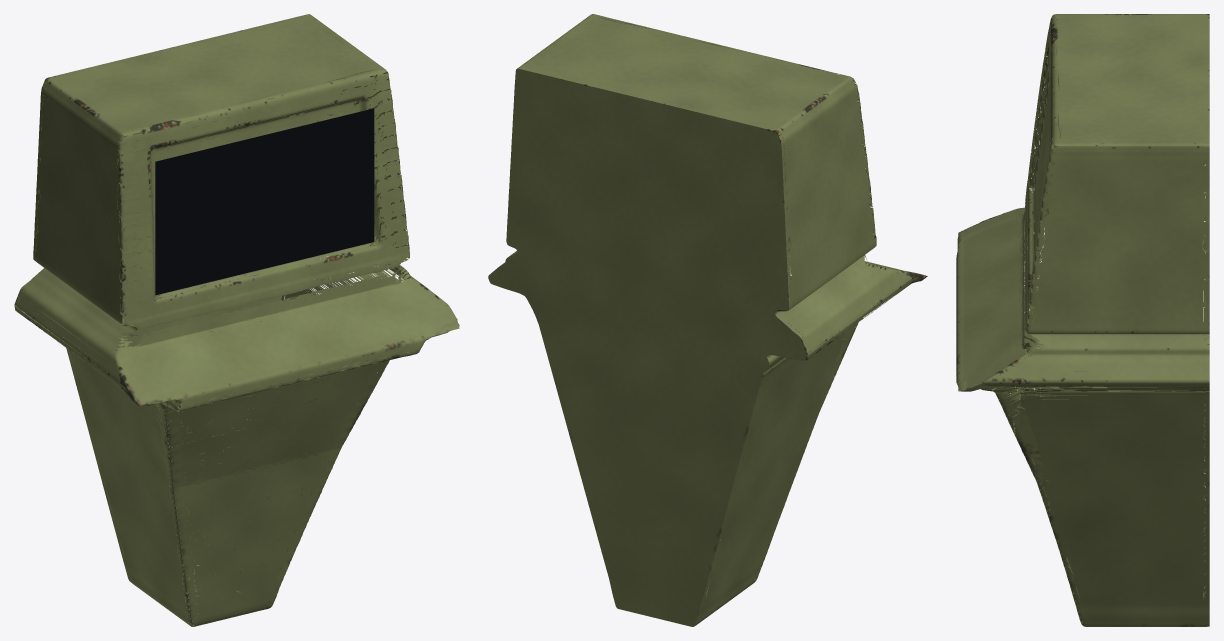
File: console.glb
3 views of the same model, side by side, from view 1: azimuth 30°, elevation 25°; view 2: azimuth 150°, elevation 25°; view 3: azimuth 270°, elevation 25° (orthographic). The views are drawn at different scales.
Parts seen in each view (by area): view 1: ConsoleBody, DisplayPlane; view 2: ConsoleBody; view 3: ConsoleBody.
Part boxes in pixels (box(x1,y1,x2,y2)): ConsoleBody: box(14, 14, 459, 626); DisplayPlane: box(155, 108, 374, 295); ConsoleBody: box(488, 14, 927, 626); ConsoleBody: box(956, 14, 1209, 626).
Bounding box in the file's own units: 1.1 × 1.7 × 0.7313.
Materials: 2 (1 with a texture image).
